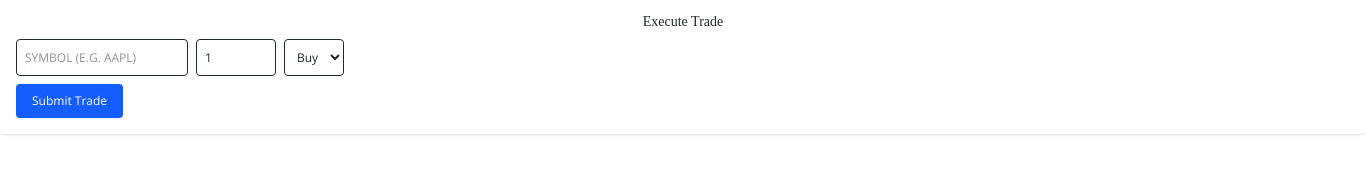
Test case: TradeForm › displays error on failure
Type "AAPL" into the field with placeholder "Symbol (e.g. AAPL)" at coordinates (102, 58), box 16,39 -> 188,76
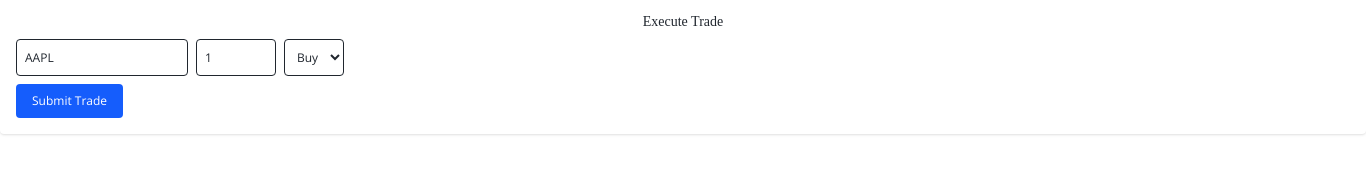
Click the button "Submit Trade" at coordinates (70, 101), box 16,84 -> 123,118
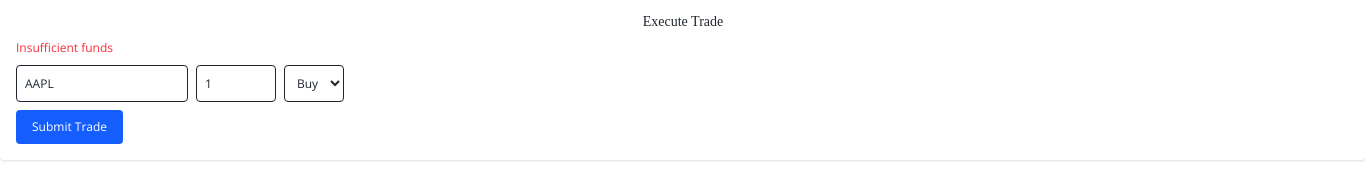
Expected: the text with class "trade-error-message" reads "Insufficient funds", 16,39 -> 113,56
